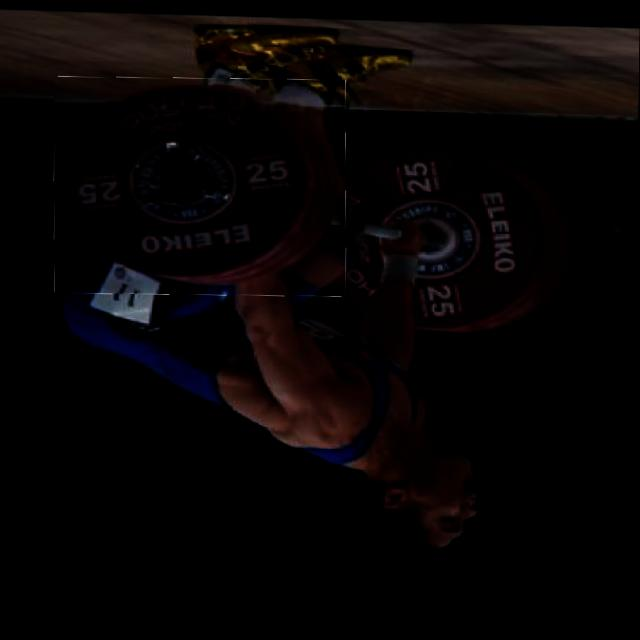barbell: (54, 73, 349, 298)
